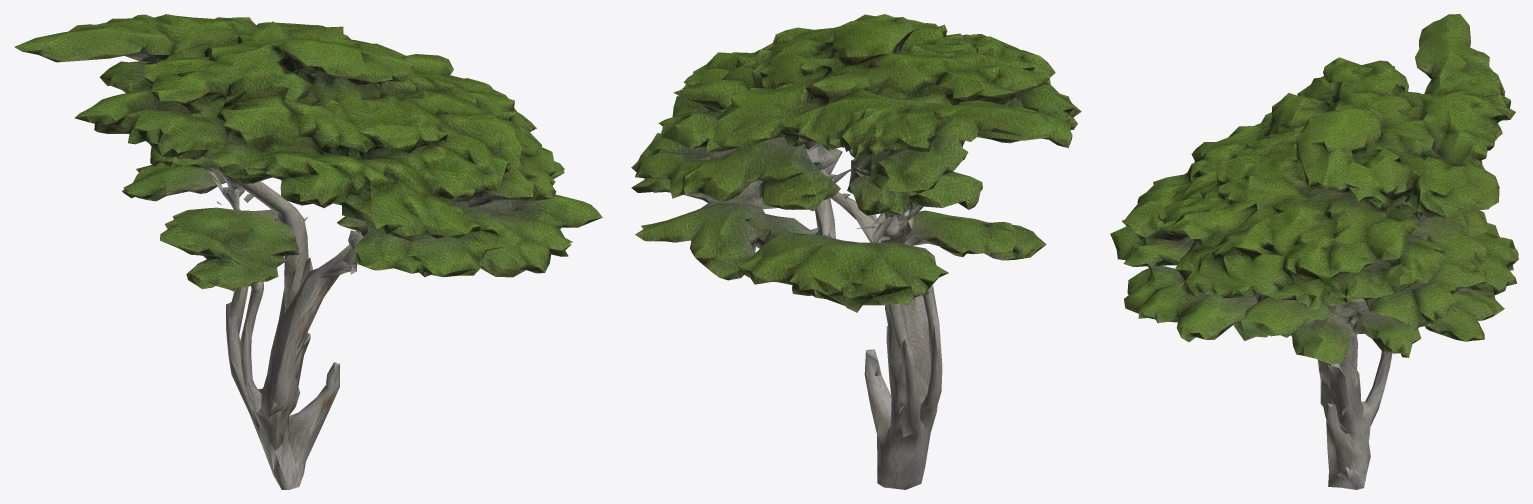
File: tree-cypress-r2.glb
The picture shows the model from 3 angles, left to right: view 1: azimuth 30°, elevation 25°; view 2: azimuth 150°, elevation 25°; view 3: azimuth 270°, elevation 25°; orthographic projection. The views are drawn at different scales.
Visible parts, largest first — view 1: Mesh; view 2: Mesh; view 3: Mesh.
Boxes of the visible parts, bbox=[...] form: Mesh: bbox=[14, 14, 602, 489]; Mesh: bbox=[631, 14, 1081, 489]; Mesh: bbox=[1110, 14, 1518, 489].
Size of the model in its own units: 1.73 by 1.66 by 1.58.
Materials: 1 (1 with a texture image).
